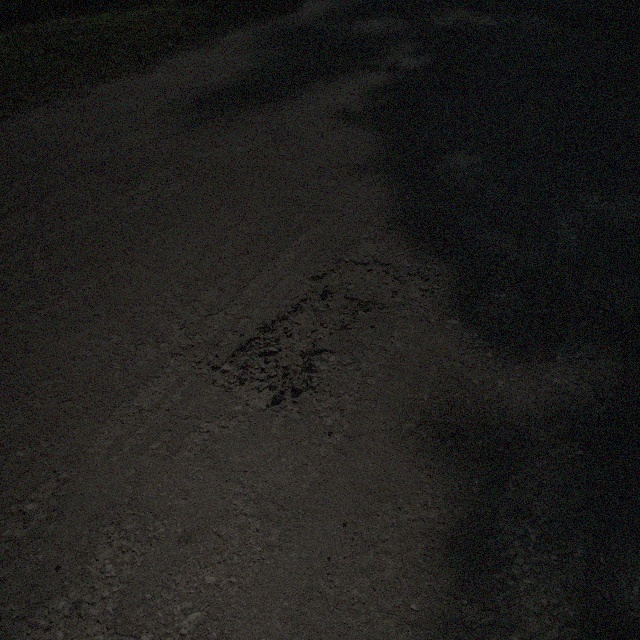pothole: (203, 253, 404, 407)
